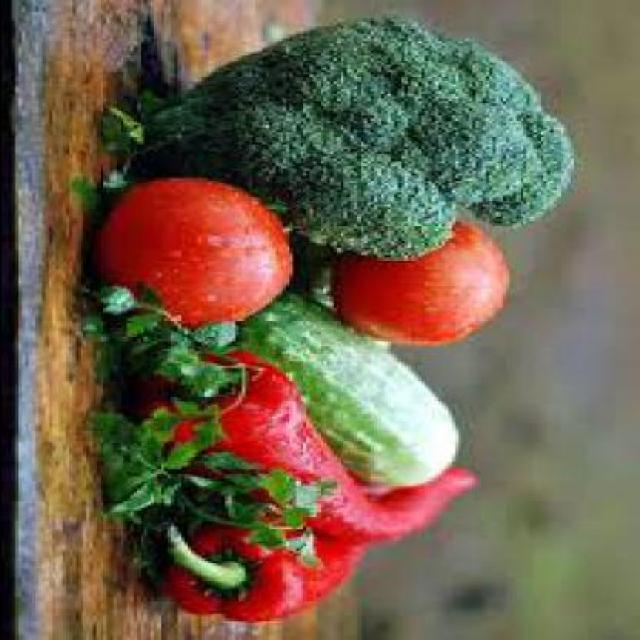BIODEGRADABLE: (138, 17, 576, 257), (91, 287, 342, 558), (139, 349, 481, 543), (217, 283, 463, 486), (156, 474, 396, 618), (91, 172, 298, 322), (342, 218, 512, 342), (98, 93, 162, 142)
